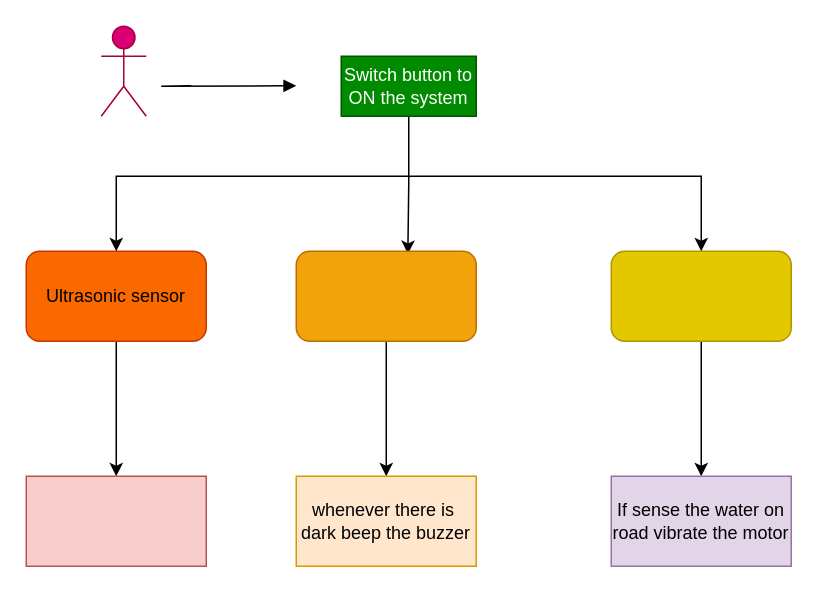
Image size: 818x593. Some labels were removed from this diagram. Here are the shapes that lost their labels. From the top down, the centre of each, then its label:
At (385,295): "LDR sensor".
At (700,295): "Water sensor".
At (115,520): "If obtacle detect beep the buzzer".
